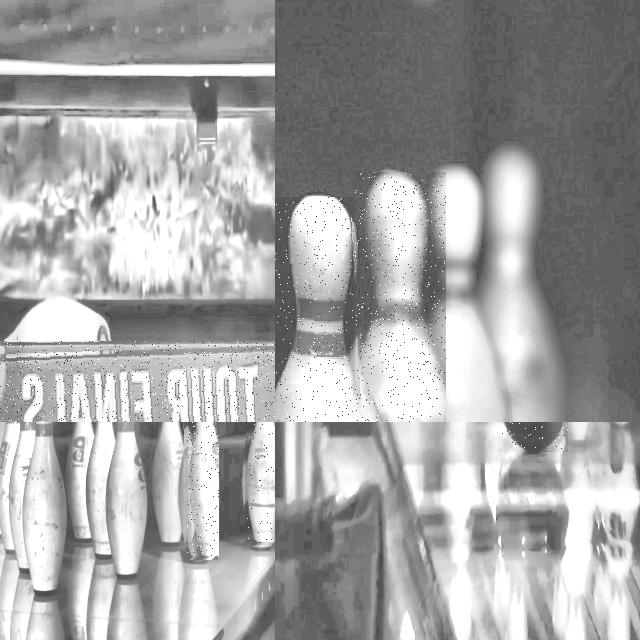bowling-pins: (355, 172, 446, 422), (481, 148, 560, 422), (418, 167, 501, 422), (275, 197, 364, 422), (22, 422, 67, 594), (106, 422, 147, 576), (187, 422, 218, 557), (86, 422, 116, 557), (153, 422, 185, 543), (9, 422, 35, 570), (247, 422, 275, 543), (66, 422, 94, 540)
sweep board: (0, 351, 275, 422)
